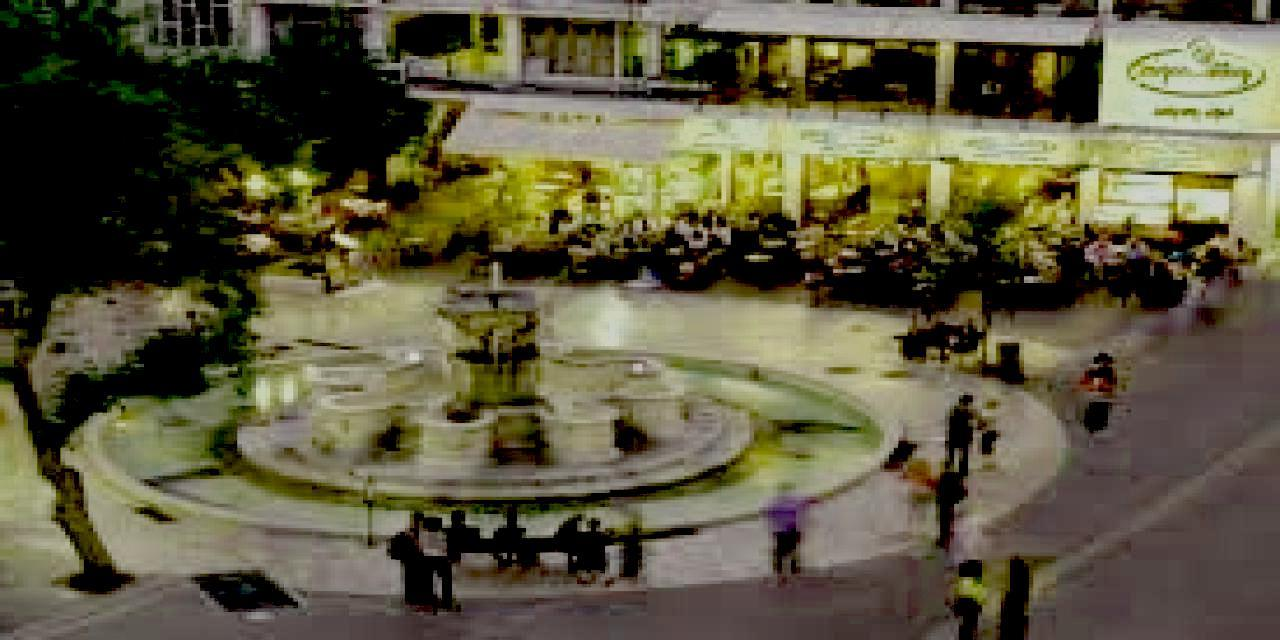Liontaria: (309, 281, 696, 480)
